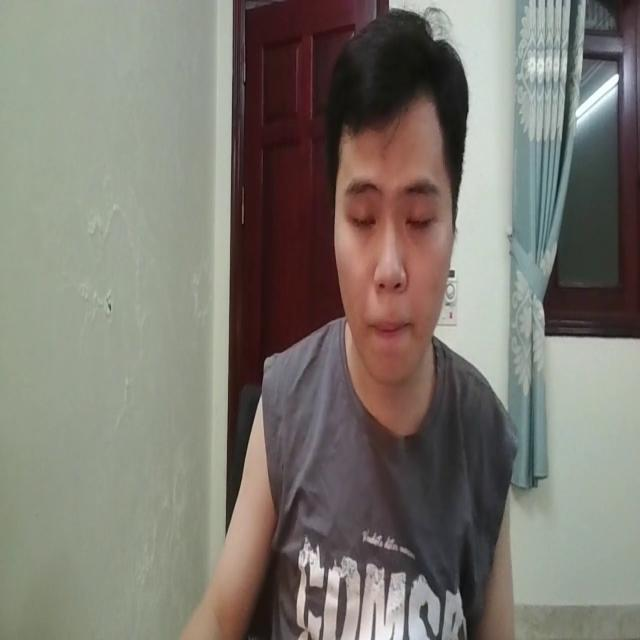student: (180, 6, 516, 640)
